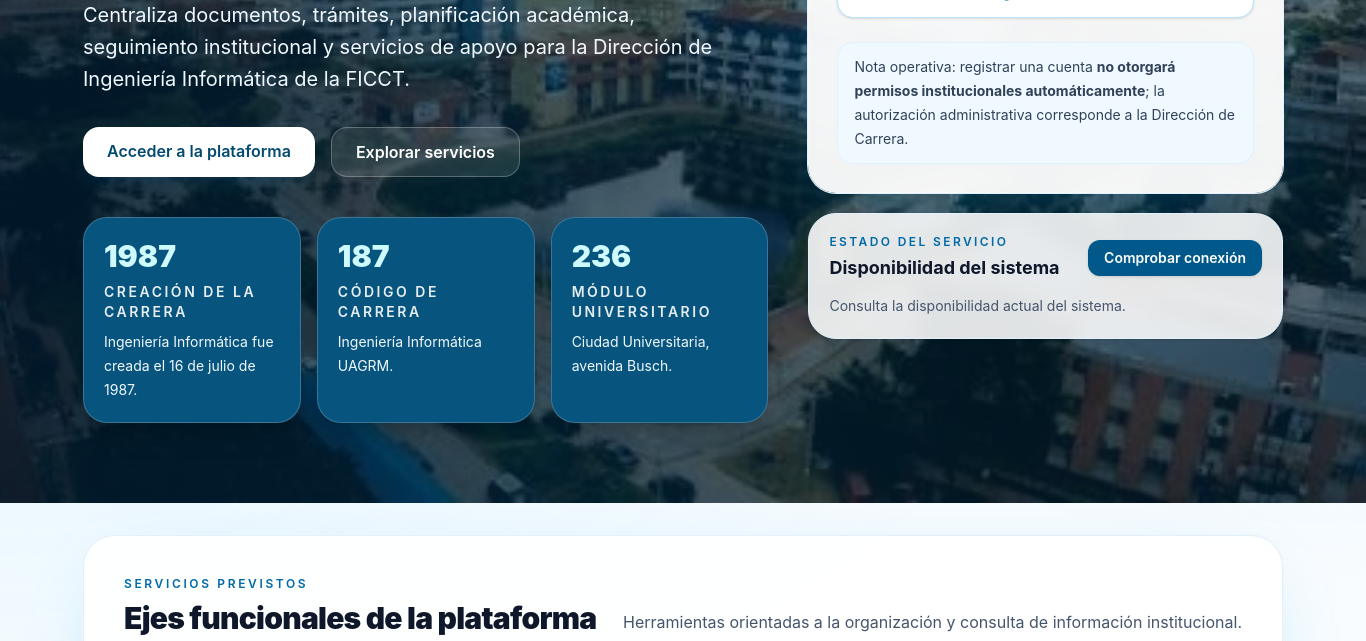
Landing institucional › informa el fallo y permite reintentar
(page scrolled)
Click the button "Comprobar conexión".
click(1175, 258)  # box [1088,240,1262,276]
(page scrolled)
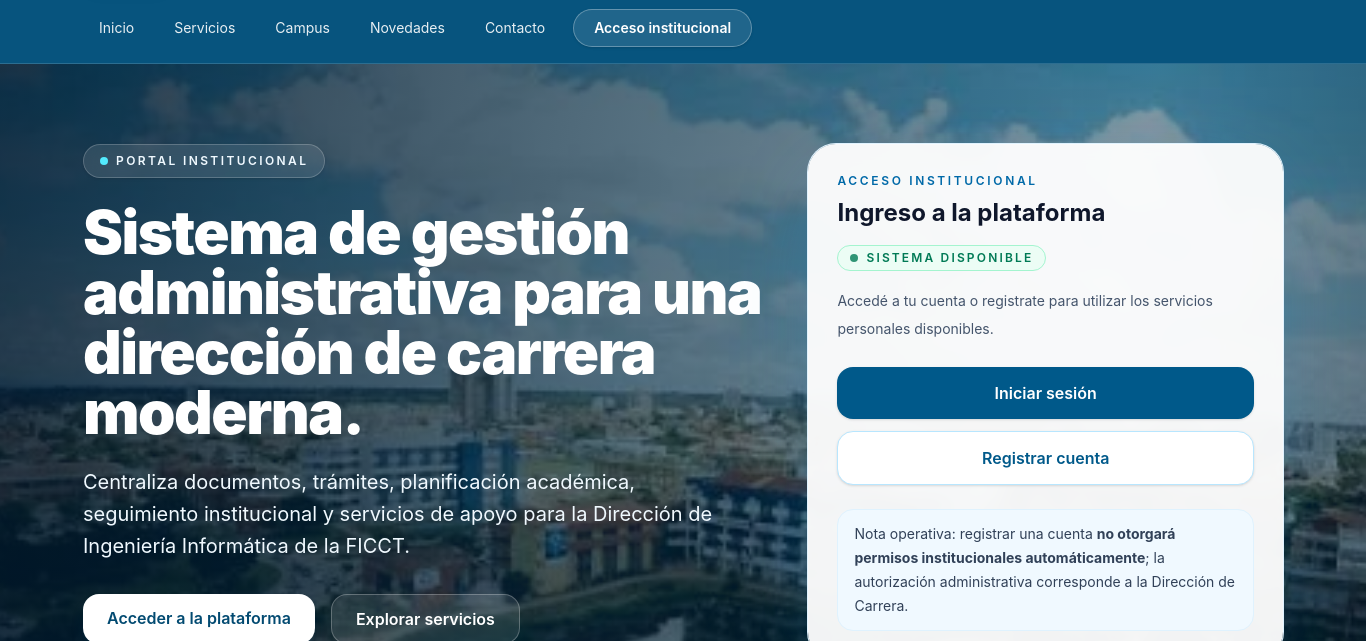
Expected: the text "Sistema disponible" is shown, [838,244,1046,270]
